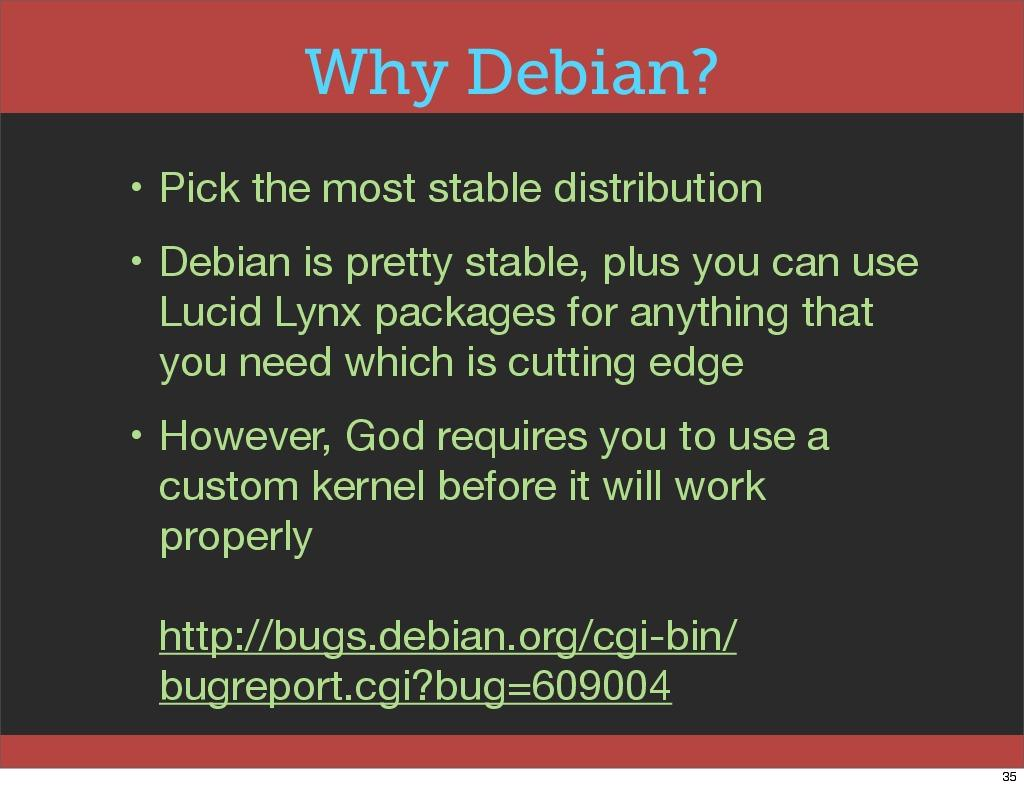paragraph: (100, 142, 962, 731)
title: (296, 30, 745, 123)
